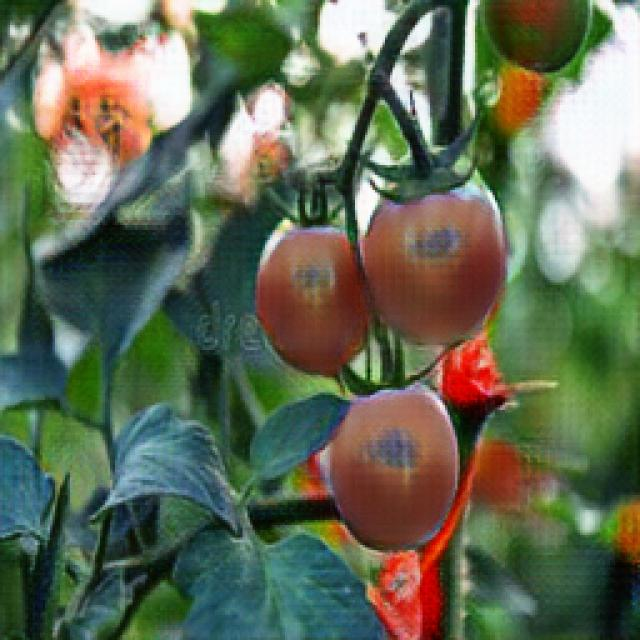overripe tomato: (354, 155, 506, 352), (329, 378, 459, 558), (253, 222, 368, 368)
